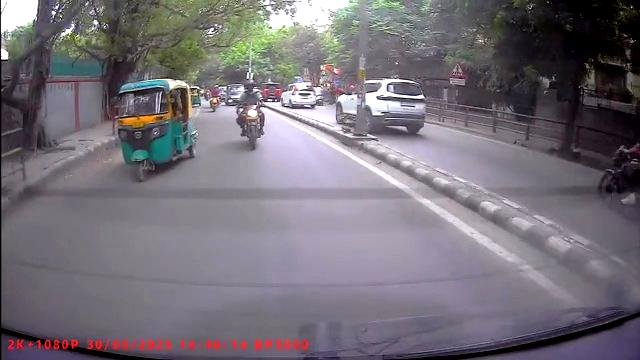motorcycle_with_helmet: (235, 79, 267, 151)
